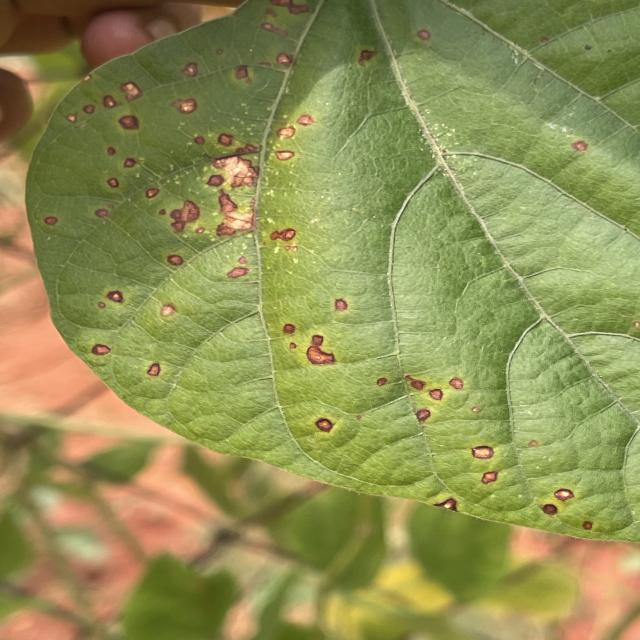Dolicos bean_cercospora leaf spot: (21, 0, 640, 541)
